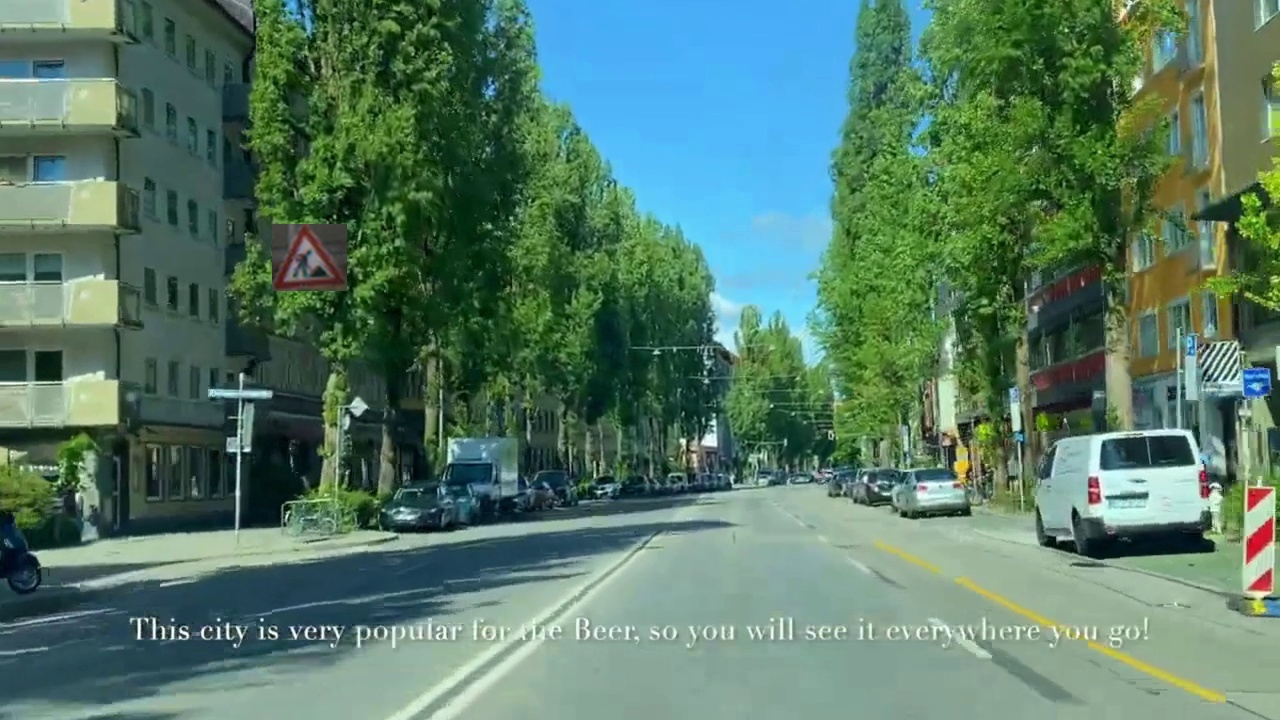Road work: (272, 224, 347, 291)
